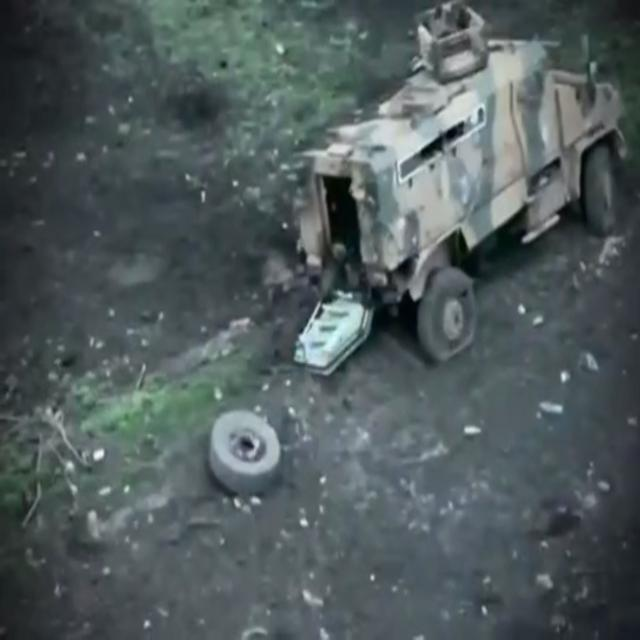Vehicle: (284, 2, 634, 366)
